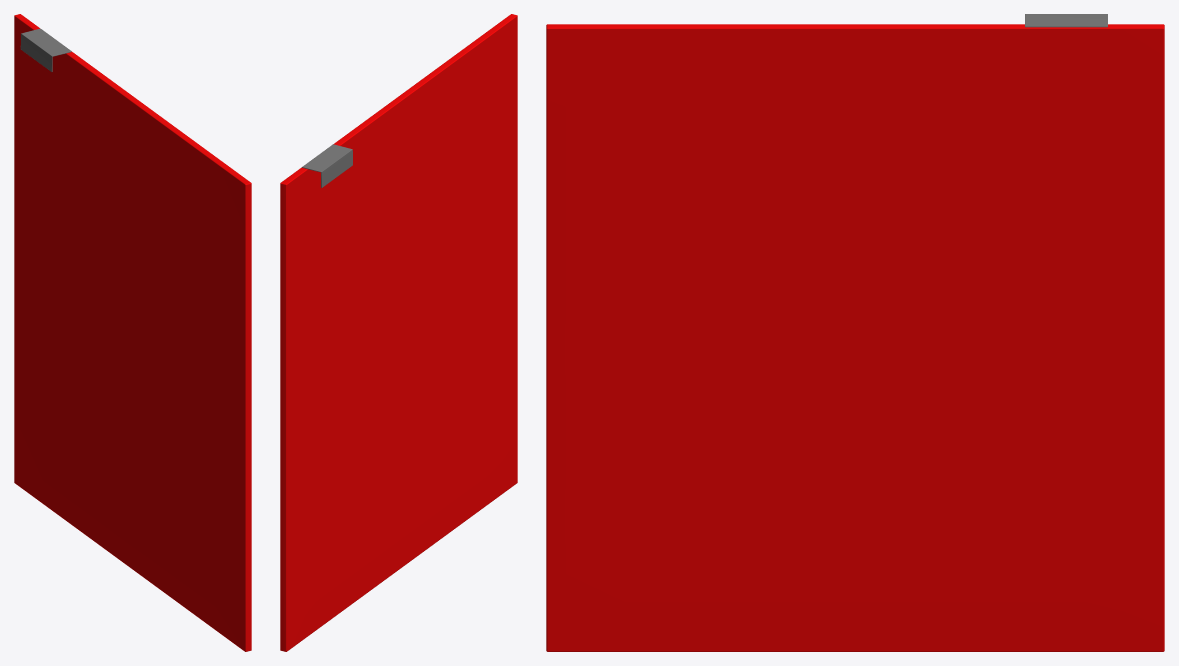
File: SM_Ki_Sink_Door_02.fbx
The picture shows the model from 3 angles, left to right: view 1: azimuth 30°, elevation 25°; view 2: azimuth 150°, elevation 25°; view 3: azimuth 270°, elevation 25°; orthographic projection. The views are drawn at different scales.
Visible parts, largest first — view 1: Kitchen_Door_Corner_01.005; view 2: Kitchen_Door_Corner_01.005; view 3: Kitchen_Door_Corner_01.005.
Boxes of the visible parts, left/top/right/bottom form: Kitchen_Door_Corner_01.005: left=14, top=14, right=251, bottom=651; Kitchen_Door_Corner_01.005: left=280, top=14, right=517, bottom=651; Kitchen_Door_Corner_01.005: left=546, top=14, right=1164, bottom=651.
Size of the model in its own units: 3.54 by 75.16 by 67.31.
